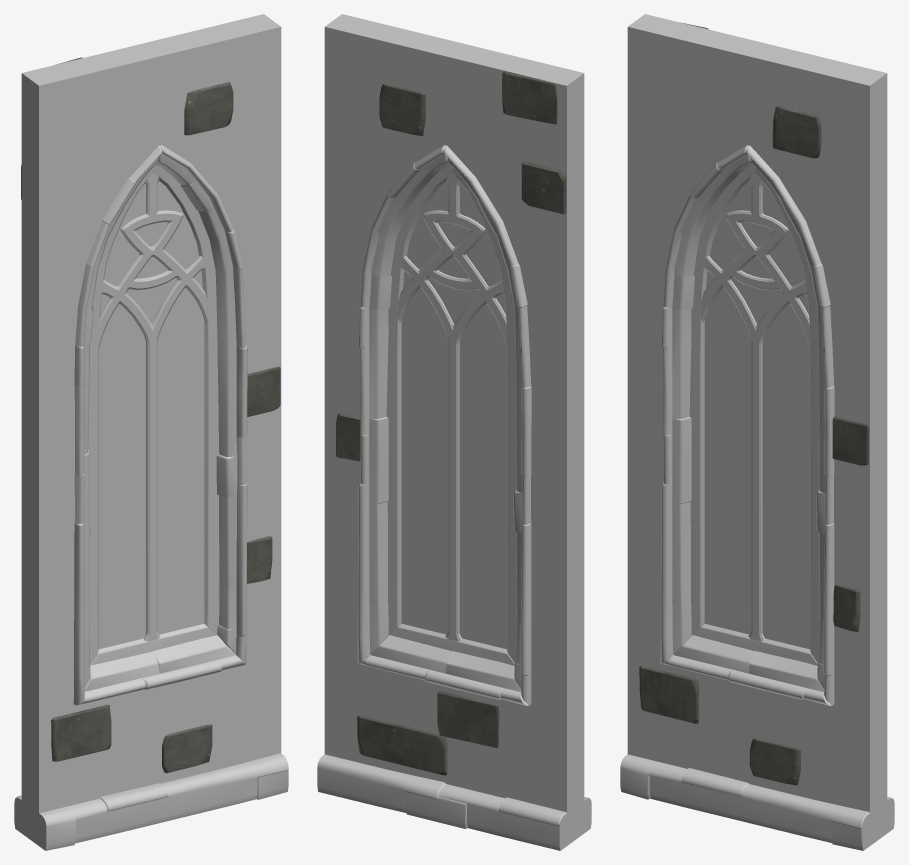
3 renders of one model, left to right at view 1: azimuth 30°, elevation 25°; view 2: azimuth 150°, elevation 25°; view 3: azimuth 330°, elevation 25°, orthographic.
Parts seen in each view (by area): view 1: SM_DeathTemple_Window_4x12_01_v1_LOD0; view 2: SM_DeathTemple_Window_4x12_01_v1_LOD0; view 3: SM_DeathTemple_Window_4x12_01_v1_LOD0.
Part boxes in pixels (left/top/right/bottom): SM_DeathTemple_Window_4x12_01_v1_LOD0: left=14, top=14, right=288, bottom=850; SM_DeathTemple_Window_4x12_01_v1_LOD0: left=317, top=14, right=591, bottom=850; SM_DeathTemple_Window_4x12_01_v1_LOD0: left=620, top=14, right=894, bottom=850.
Size of the model in its own units: 4 by 12 by 0.9892.
